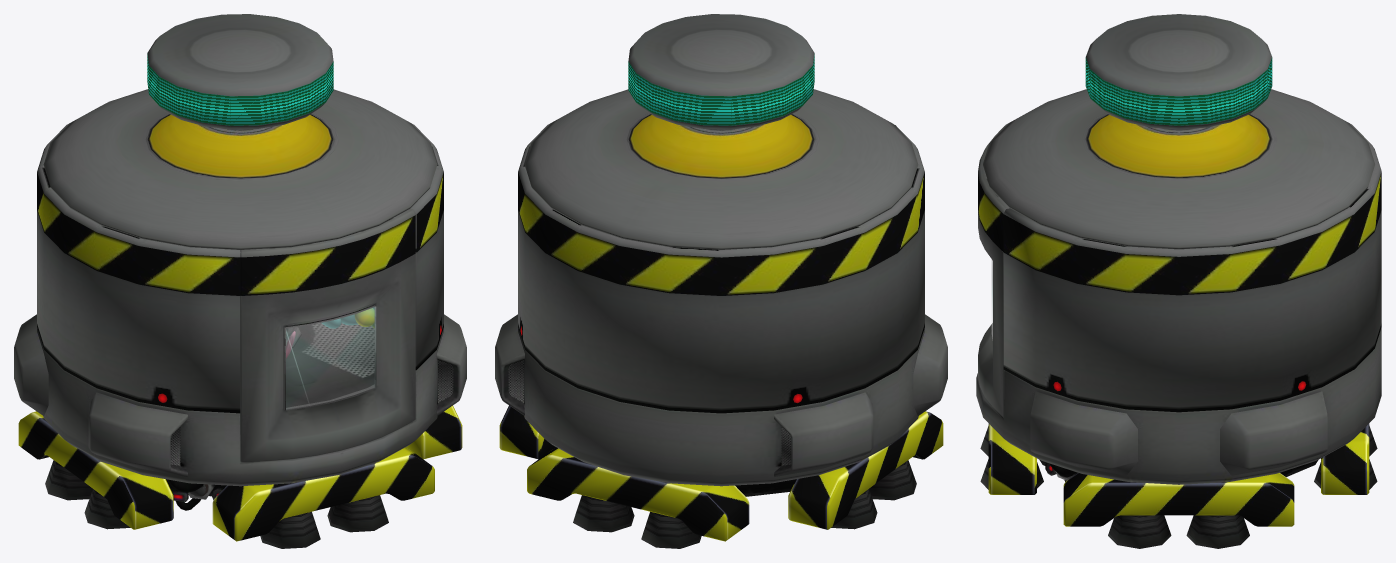
File: Animal-Capsule-Full.glb
The picture shows the model from 3 angles, left to right: view 1: azimuth 30°, elevation 25°; view 2: azimuth 150°, elevation 25°; view 3: azimuth 270°, elevation 25°; orthographic projection.
Parts seen in each view (by area): view 1: stu_obj_animalcapsulefull, stu_chr_chao.001; view 2: stu_obj_animalcapsulefull; view 3: stu_obj_animalcapsulefull.
Part boxes in pixels (left/top/right/bottom): stu_obj_animalcapsulefull: left=14, top=14, right=466, bottom=548; stu_chr_chao.001: left=286, top=307, right=374, bottom=358; stu_obj_animalcapsulefull: left=495, top=14, right=947, bottom=548; stu_obj_animalcapsulefull: left=976, top=14, right=1381, bottom=548.
Bounding box in the file's own units: 0.9469 × 1.02 × 0.9022.
10 materials, 10 textured.
